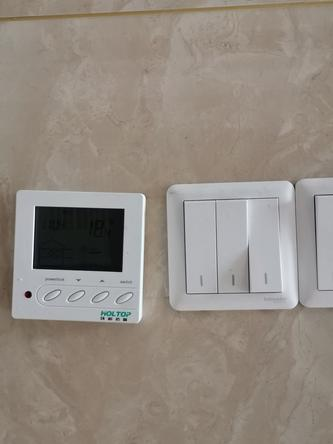switch: (242, 192, 285, 298), (179, 196, 223, 299), (212, 194, 254, 295)
